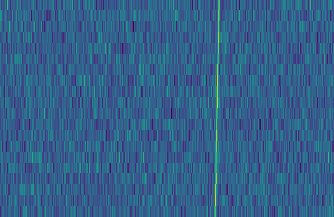signal: (211, 0, 224, 217)
